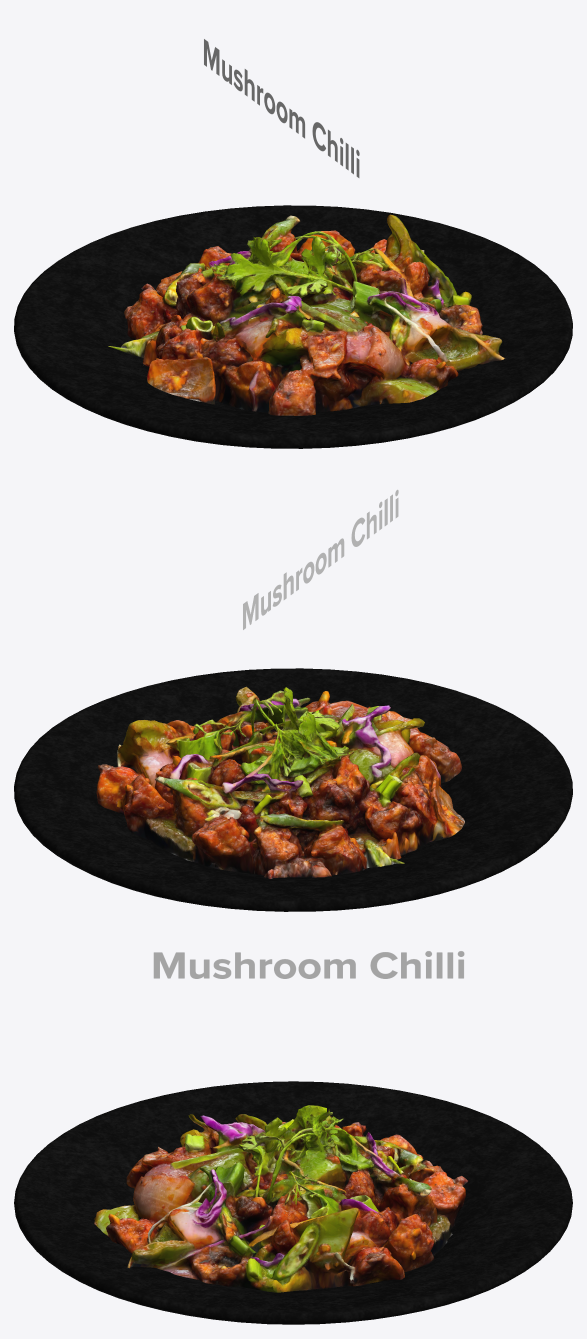
Rendered from Mushroom_Chilli.glb.
3 renders of one model, top to bottom at view 1: azimuth 30°, elevation 25°; view 2: azimuth 150°, elevation 25°; view 3: azimuth 270°, elevation 25°, orthographic.
Visible parts, largest first — view 1: Small_Plate, pCube2, name:name:pPlane2; view 2: Small_Plate, pCube2, name:name:pPlane2; view 3: Small_Plate, pCube2, pPlane2.
Part boxes in pixels (left/top/right/bottom): Small_Plate: left=14, top=205, right=572, bottom=448; pCube2: left=108, top=214, right=504, bottom=415; name:name:pPlane2: left=204, top=39, right=359, bottom=177; Small_Plate: left=14, top=668, right=572, bottom=911; pCube2: left=96, top=686, right=464, bottom=878; name:name:pPlane2: left=243, top=490, right=398, bottom=629; Small_Plate: left=14, top=1081, right=572, bottom=1324; pCube2: left=94, top=1105, right=467, bottom=1292; pPlane2: left=153, top=951, right=464, bottom=978.
Bounding box in the file's own units: 0.2317 × 0.1392 × 0.2317.
3 materials, 3 textured.
